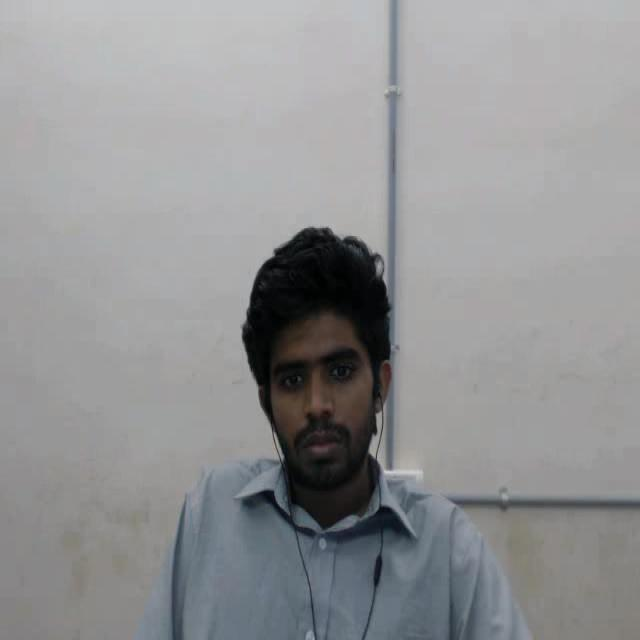Engaged: (203, 211, 432, 551)
